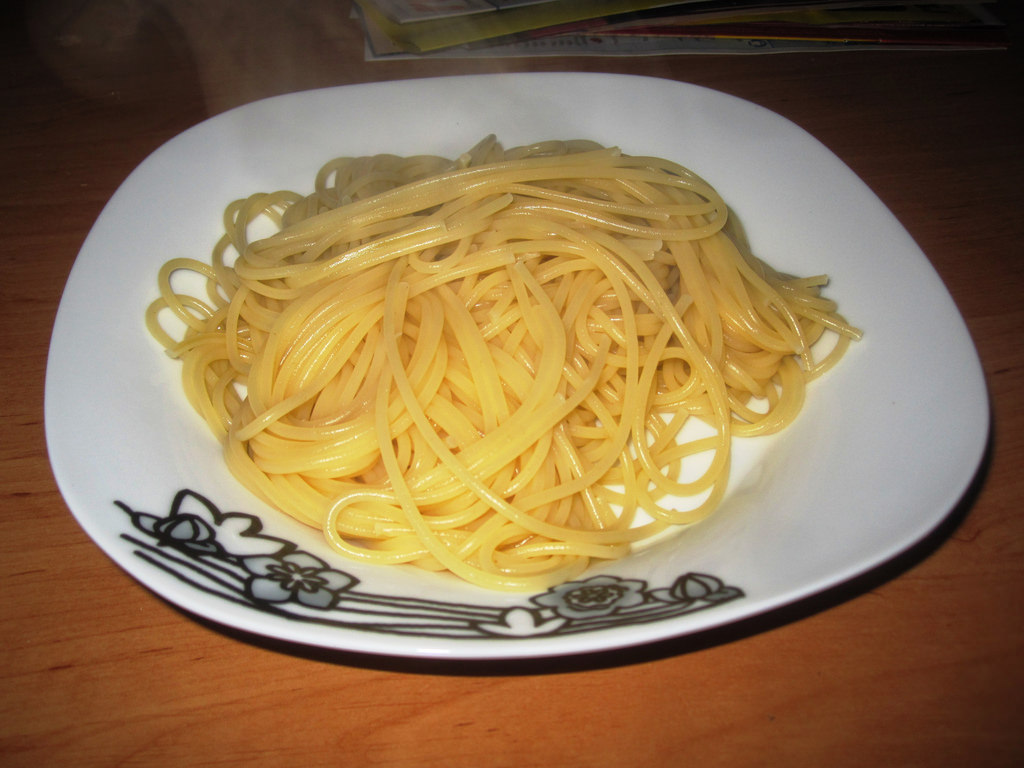plain spaghetti: (148, 141, 861, 590)
